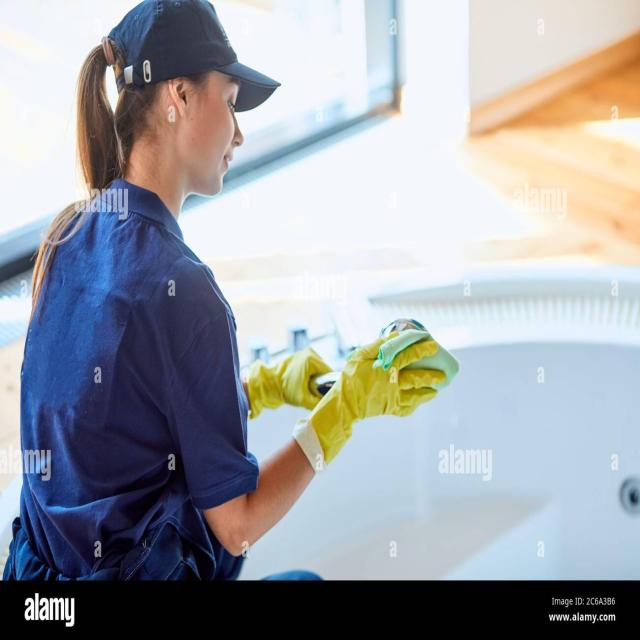gloves: (293, 315, 460, 471), (246, 340, 332, 423)
